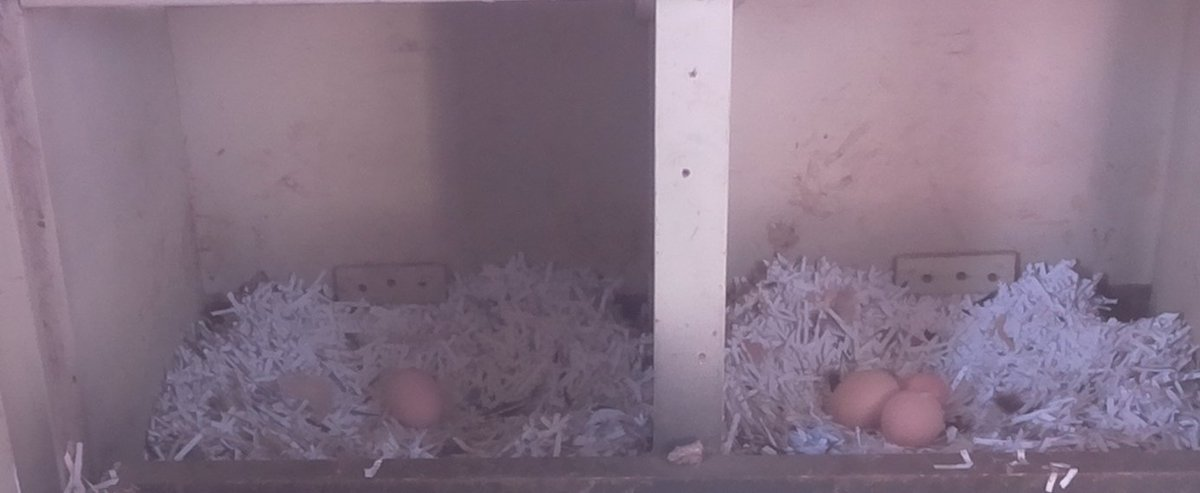egg: (381, 365, 450, 435), (879, 388, 951, 451), (824, 366, 899, 426), (897, 369, 956, 407)
